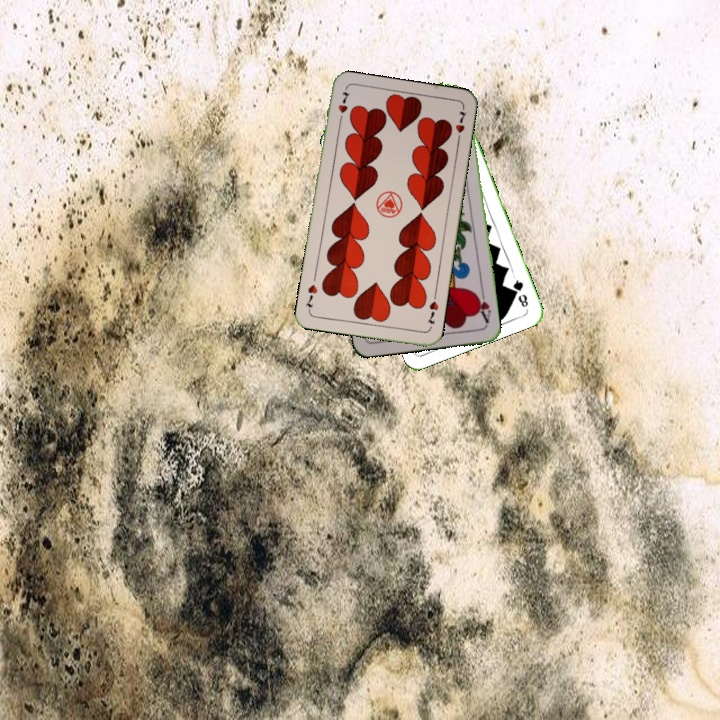G8: (509, 272, 531, 310)
H7: (334, 88, 352, 126), (423, 297, 441, 326)
HA: (472, 286, 494, 325)
